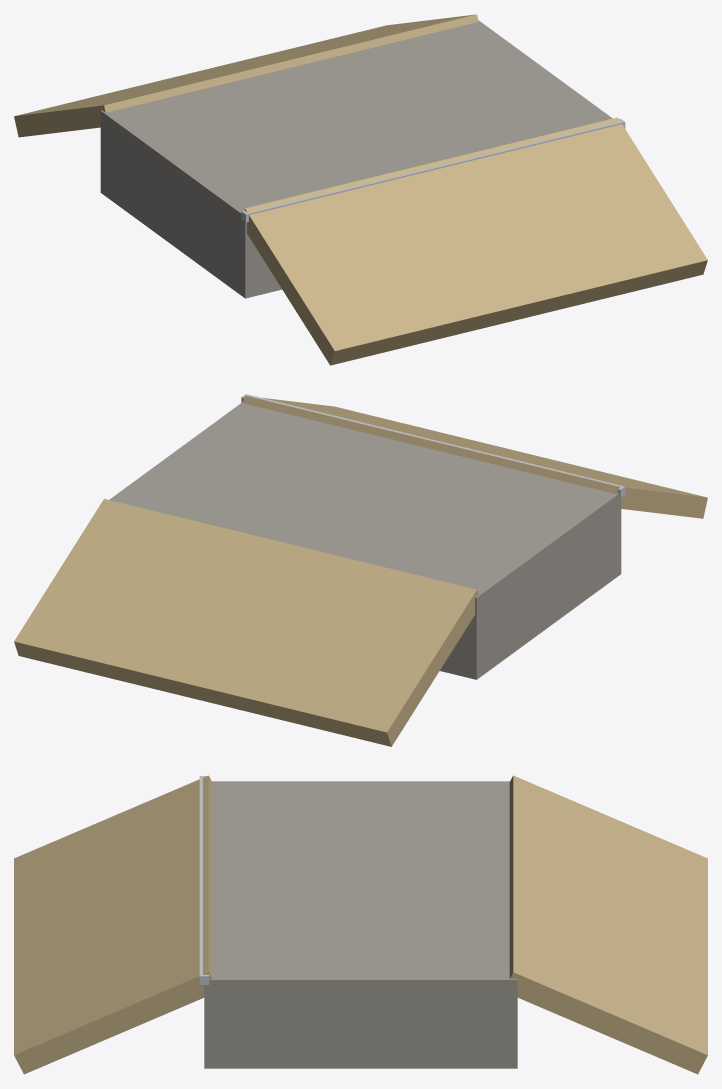
File: fun_box.glb
The picture shows the model from 3 angles, top to bottom: view 1: azimuth 30°, elevation 25°; view 2: azimuth 150°, elevation 25°; view 3: azimuth 270°, elevation 25°; orthographic projection. The views are drawn at different scales.
Parts seen in each view (by area): view 1: Box3, Box1, Box2, Box4; view 2: Box2, Box1, Box3, Box4; view 3: Box1, Box2, Box3, Box4.
Boxes of the visible parts, x1=… form: Box3: x1=244, y1=117, x2=707, y2=365; Box1: x1=100, y1=20, x2=612, y2=298; Box2: x1=14, y1=14, x2=478, y2=137; Box4: x1=241, y1=118, x2=625, y2=222; Box2: x1=14, y1=499, x2=478, y2=746; Box1: x1=109, y1=402, x2=621, y2=679; Box3: x1=243, y1=395, x2=707, y2=518; Box4: x1=241, y1=394, x2=625, y2=497; Box1: x1=204, y1=781, x2=517, y2=1068; Box2: x1=509, y1=775, x2=707, y2=1074; Box3: x1=14, y1=775, x2=212, y2=1074; Box4: x1=199, y1=776, x2=209, y2=984.
Size of the model in its own units: 2.42 by 0.5771 by 3.55.
